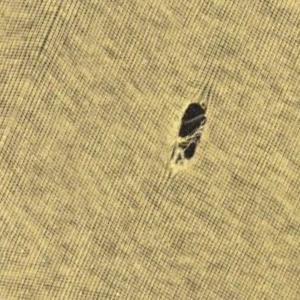hole: (169, 99, 211, 170)
